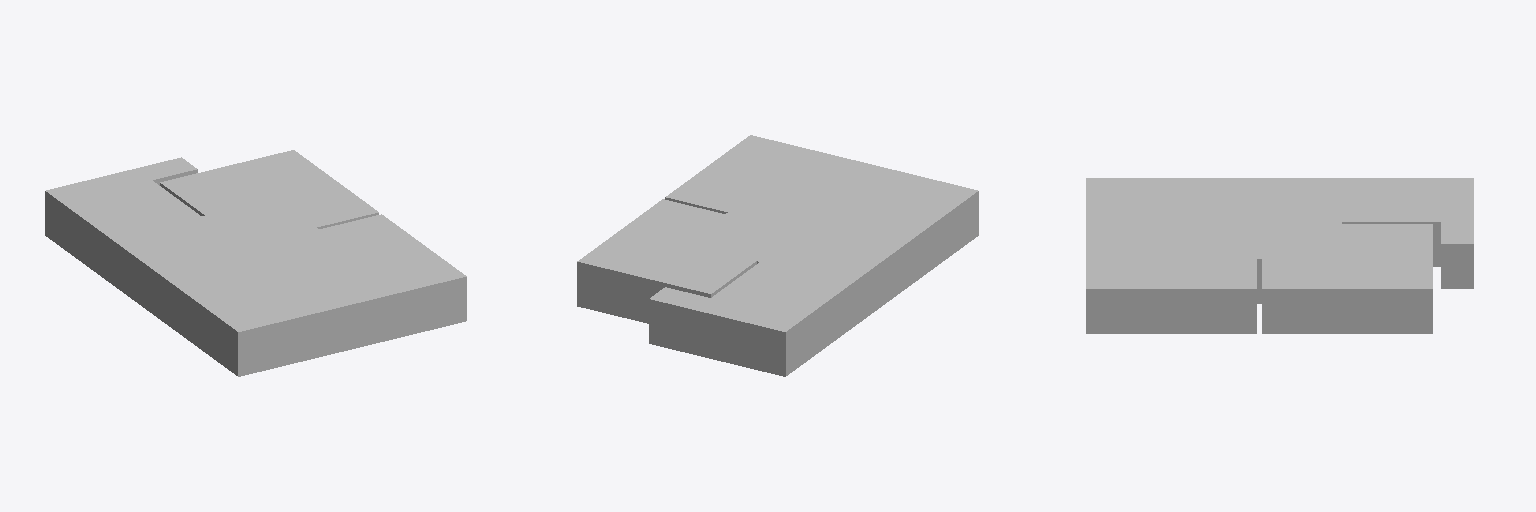
The model's file is SalleCafette.obj.
3 views of the same model, side by side, from view 1: azimuth 30°, elevation 25°; view 2: azimuth 150°, elevation 25°; view 3: azimuth 270°, elevation 25° (orthographic).
Bounding box in the file's own units: 16 × 3 × 23.46.